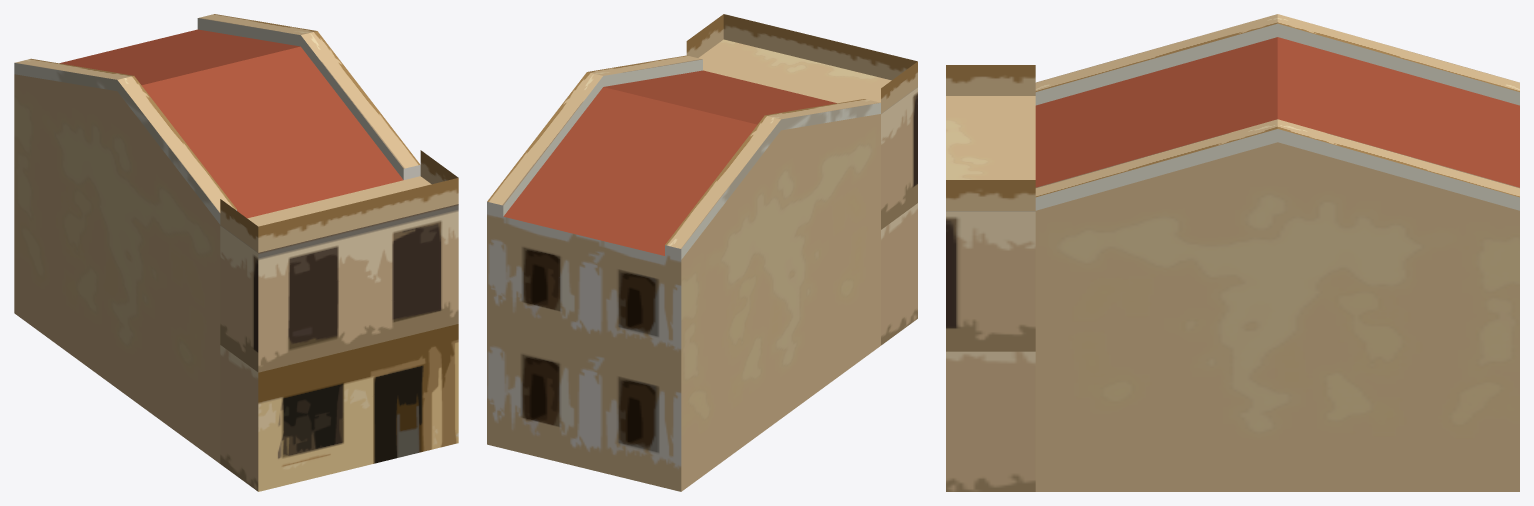
File: SM_Building_Large_07.fbx
3 views of the same model, side by side, from view 1: azimuth 30°, elevation 25°; view 2: azimuth 150°, elevation 25°; view 3: azimuth 270°, elevation 25° (orthographic). The views are drawn at different scales.
Visible parts, largest first — view 1: SM_Building_Large_07_LOD0; view 2: SM_Building_Large_07_LOD0; view 3: SM_Building_Large_07_LOD0.
Part boxes in pixels (x1,y1,x2,y2): SM_Building_Large_07_LOD0: [14, 14, 458, 491]; SM_Building_Large_07_LOD0: [487, 14, 917, 491]; SM_Building_Large_07_LOD0: [946, 14, 1519, 491].
Size of what is drawn, in the model's own units: 6.07 by 8.95 by 12.82.
